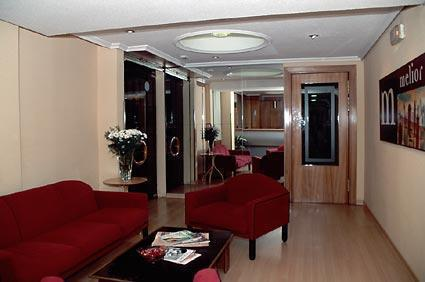Puerta: (289, 76, 353, 203)
